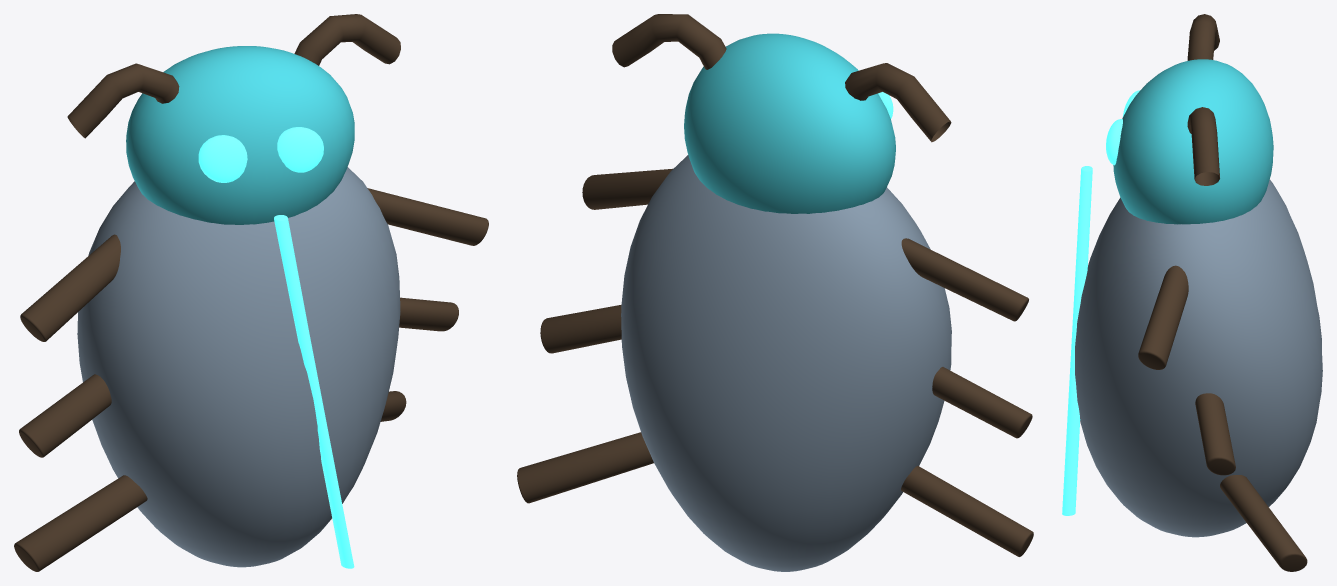
Rendered from insect_v8.glb.
3 views of the same model, side by side, from view 1: azimuth 30°, elevation 25°; view 2: azimuth 150°, elevation 25°; view 3: azimuth 270°, elevation 25° (orthographic). The views are drawn at different scales.
Parts seen in each view (by area): view 1: BEETLE_SHELL_PRIMARY, BEETLE_HEAD_ACCENT, BEETLE_LEG_SECONDARY.004, SHELL_SEAM_EMISSIVE, BEETLE_LEG_SECONDARY, BEETLE_LEG_SECONDARY.002, SWEEP_ANTLER_SECONDARY, BEETLE_LEG_SECONDARY.001, SWEEP_ANTLER_SECONDARY.001, EYE_EMISSIVE, BEETLE_LEG_SECONDARY.003, EYE_EMISSIVE.001; view 2: BEETLE_SHELL_PRIMARY, BEETLE_HEAD_ACCENT, BEETLE_LEG_SECONDARY.005, BEETLE_LEG_SECONDARY.004, BEETLE_LEG_SECONDARY, SWEEP_ANTLER_SECONDARY.001, SWEEP_ANTLER_SECONDARY, BEETLE_LEG_SECONDARY.002, BEETLE_LEG_SECONDARY.003, BEETLE_LEG_SECONDARY.001; view 3: BEETLE_SHELL_PRIMARY, BEETLE_HEAD_ACCENT, SHELL_SEAM_EMISSIVE, BEETLE_LEG_SECONDARY.005, BEETLE_LEG_SECONDARY.001, BEETLE_LEG_SECONDARY.003, SWEEP_ANTLER_SECONDARY.001, SWEEP_ANTLER_SECONDARY, EYE_EMISSIVE.001.
Boxes of the visible parts, box(x1,y1,x2,y2) form: BEETLE_SHELL_PRIMARY: box(77, 167, 400, 567); BEETLE_HEAD_ACCENT: box(126, 46, 354, 224); BEETLE_LEG_SECONDARY.004: box(14, 475, 147, 571); SHELL_SEAM_EMISSIVE: box(274, 215, 354, 568); BEETLE_LEG_SECONDARY: box(20, 234, 120, 341); BEETLE_LEG_SECONDARY.002: box(19, 374, 111, 457); SWEEP_ANTLER_SECONDARY: box(67, 63, 179, 138); BEETLE_LEG_SECONDARY.001: box(367, 188, 488, 245); SWEEP_ANTLER_SECONDARY.001: box(294, 14, 400, 65); EYE_EMISSIVE: box(198, 135, 247, 182); BEETLE_LEG_SECONDARY.003: box(399, 297, 458, 331); EYE_EMISSIVE.001: box(277, 127, 323, 172); BEETLE_SHELL_PRIMARY: box(621, 155, 951, 571); BEETLE_HEAD_ACCENT: box(684, 33, 895, 213); BEETLE_LEG_SECONDARY.005: box(517, 432, 653, 503); BEETLE_LEG_SECONDARY.004: box(901, 466, 1033, 556); BEETLE_LEG_SECONDARY: box(901, 238, 1028, 321); SWEEP_ANTLER_SECONDARY.001: box(612, 14, 726, 69); SWEEP_ANTLER_SECONDARY: box(845, 63, 951, 142); BEETLE_LEG_SECONDARY.002: box(932, 367, 1032, 438); BEETLE_LEG_SECONDARY.003: box(540, 304, 621, 353); BEETLE_LEG_SECONDARY.001: box(582, 168, 672, 209); BEETLE_SHELL_PRIMARY: box(1075, 179, 1322, 537); BEETLE_HEAD_ACCENT: box(1113, 59, 1273, 224); SHELL_SEAM_EMISSIVE: box(1062, 166, 1092, 515); BEETLE_LEG_SECONDARY.005: box(1220, 475, 1307, 571); BEETLE_LEG_SECONDARY.001: box(1138, 265, 1188, 369); BEETLE_LEG_SECONDARY.003: box(1195, 393, 1235, 475); SWEEP_ANTLER_SECONDARY.001: box(1187, 107, 1219, 185); SWEEP_ANTLER_SECONDARY: box(1187, 14, 1219, 60); EYE_EMISSIVE.001: box(1106, 119, 1122, 165).
Bounding box in the file's own units: 2.04 × 2.19 × 1.11.
